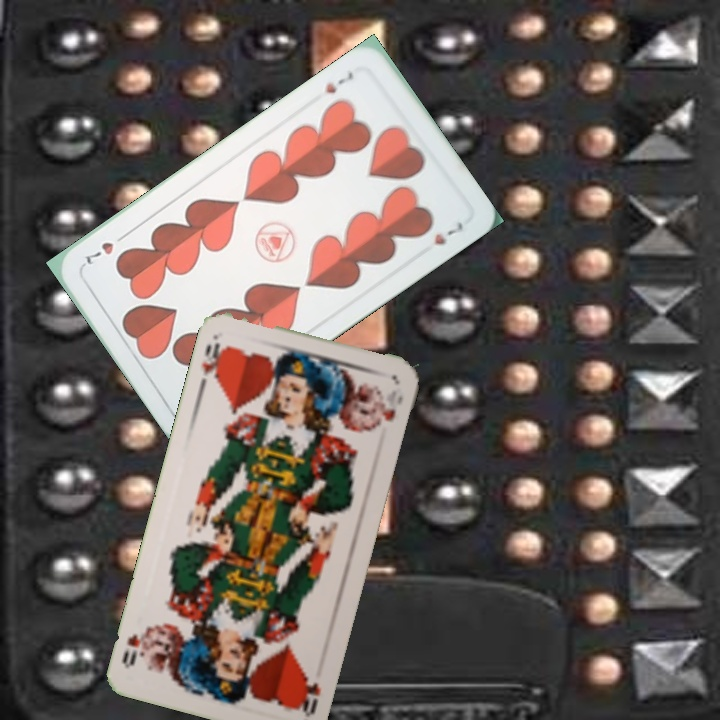H7: (321, 67, 356, 97)
HO: (197, 339, 229, 385), (296, 672, 324, 719)
